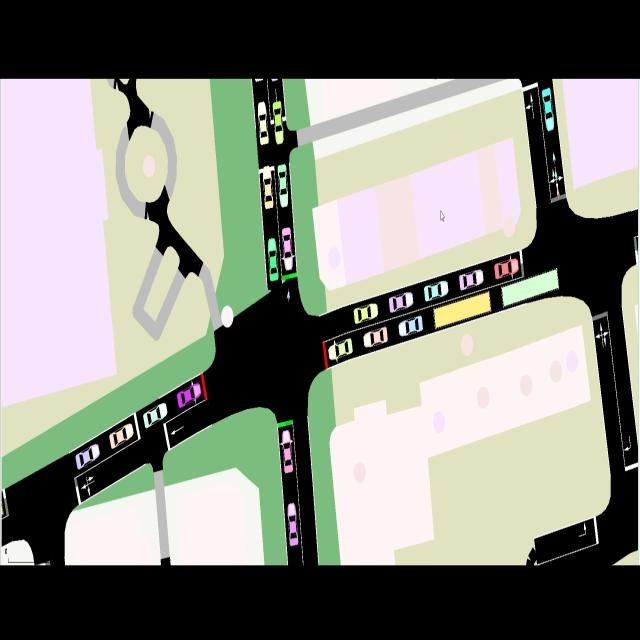vehicle: (502, 268, 559, 306), (433, 291, 491, 328), (143, 400, 168, 428), (109, 422, 134, 448), (281, 224, 294, 274), (75, 443, 99, 470), (280, 429, 294, 475), (177, 382, 201, 407), (458, 268, 484, 291), (424, 279, 449, 302), (272, 102, 285, 146), (363, 327, 389, 349), (543, 87, 555, 133), (388, 291, 413, 313), (327, 338, 354, 358), (354, 303, 378, 325), (267, 235, 278, 283), (494, 257, 519, 278), (398, 317, 424, 337), (258, 100, 269, 146), (288, 502, 299, 548), (263, 166, 274, 211), (278, 164, 289, 208)
